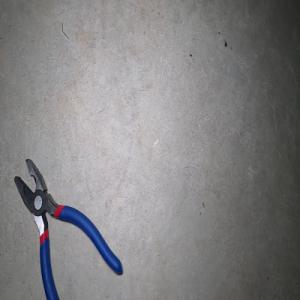Pliers: (13, 158, 122, 300)
